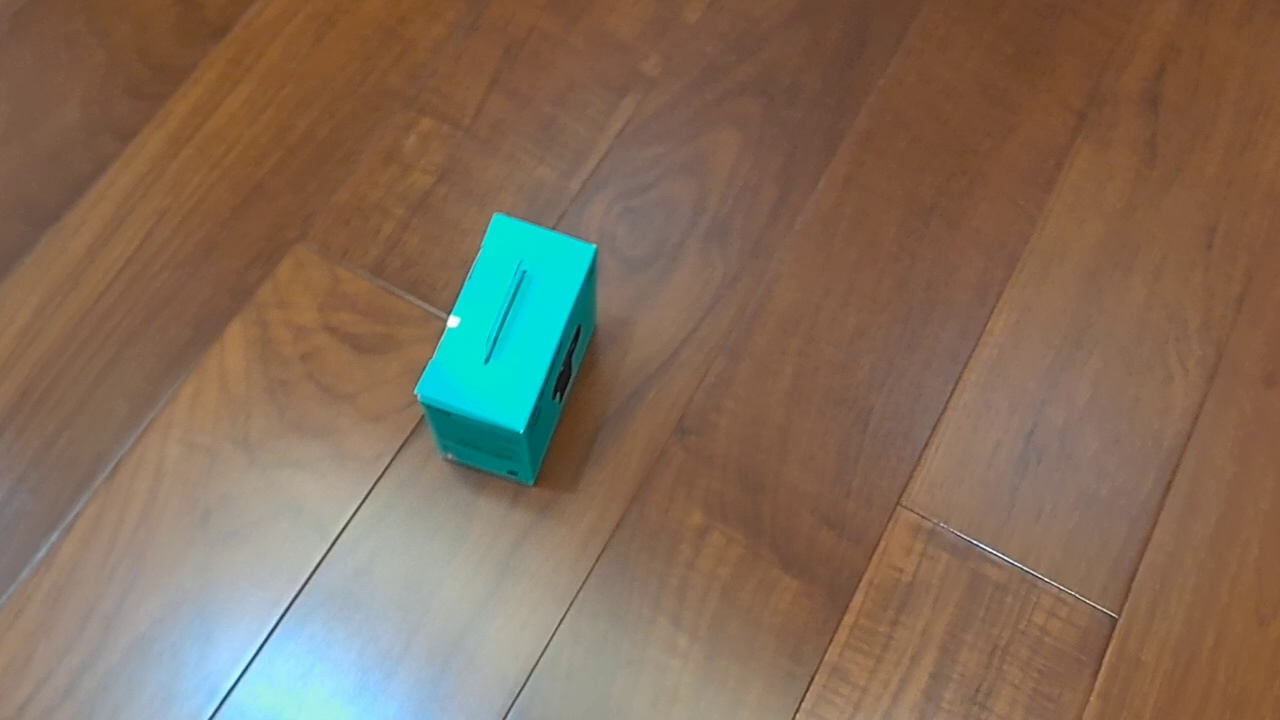webcam: (412, 211, 600, 488)
